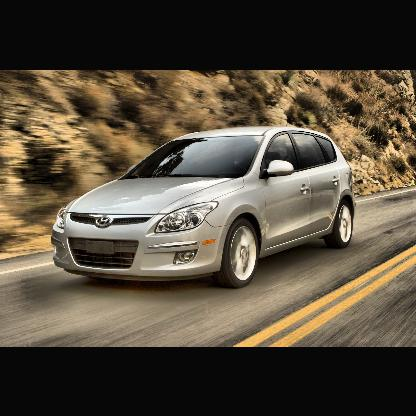Hyundai Elantra Touring Hatchback 2012: (50, 124, 356, 291)
